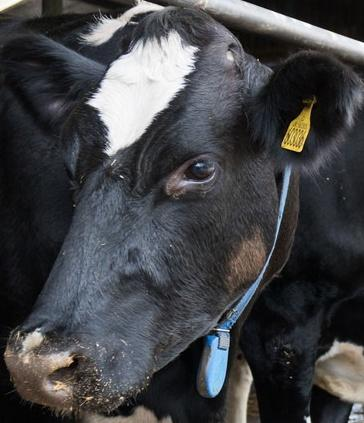muzzles: (1, 323, 122, 420)
